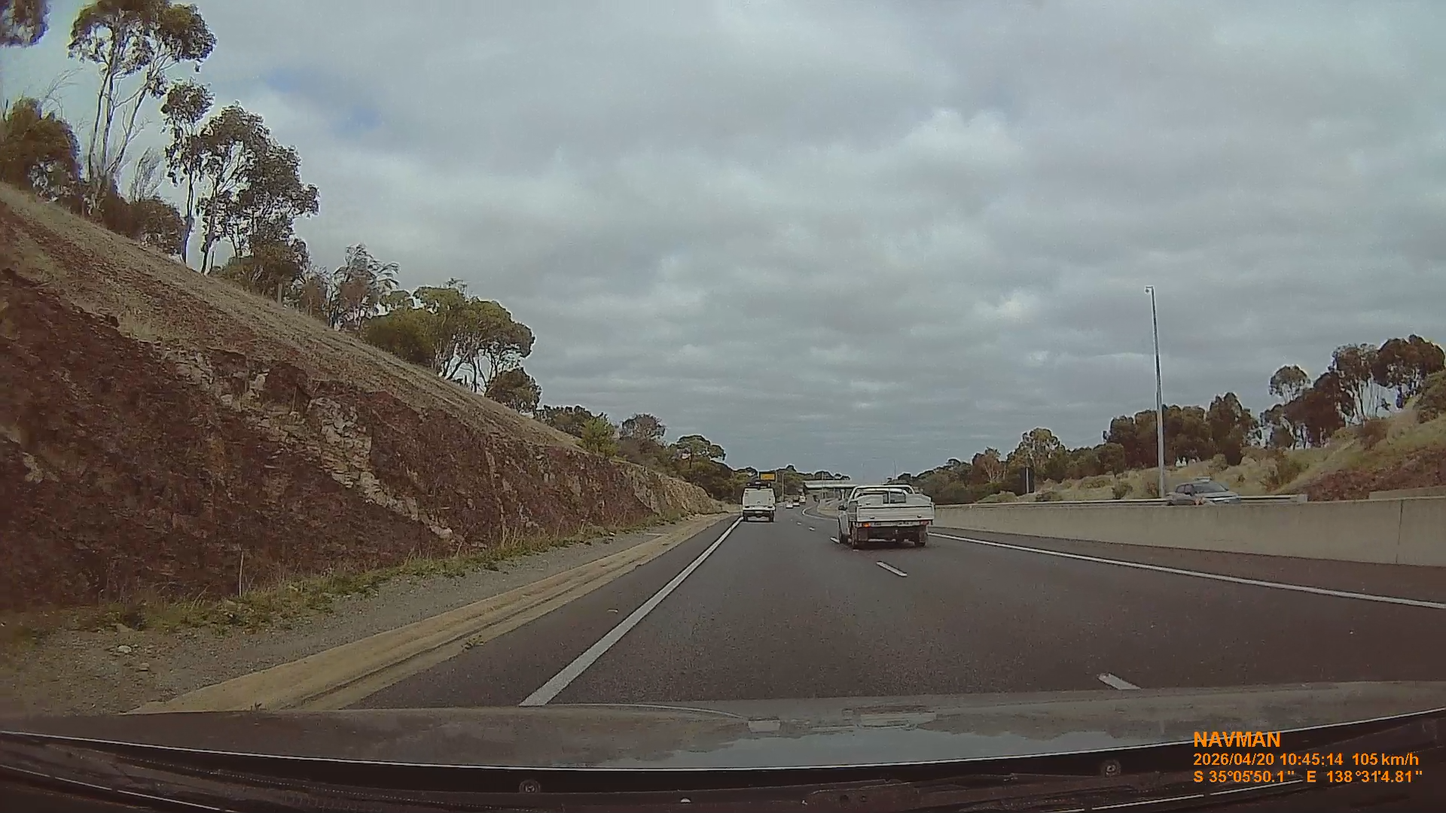road barriers: (935, 497, 1445, 568)
